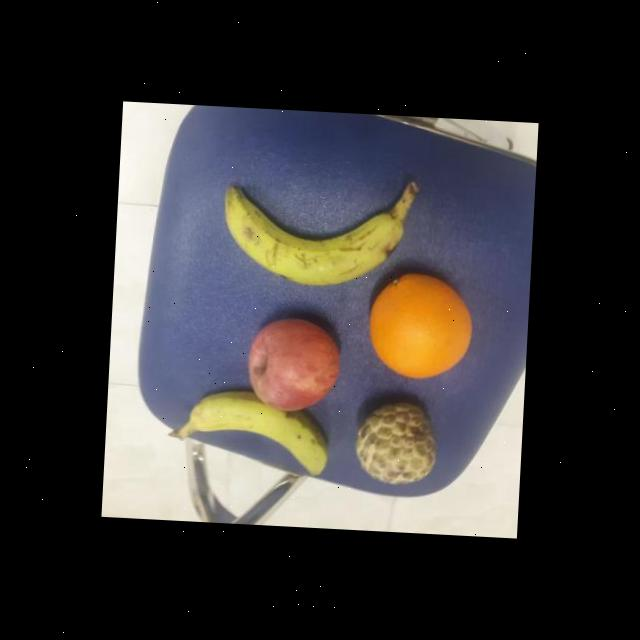Sakya fruit: (352, 396, 442, 488)
apple: (243, 315, 346, 416)
banana: (218, 180, 408, 294), (184, 388, 338, 482)
orange: (363, 270, 479, 386)
